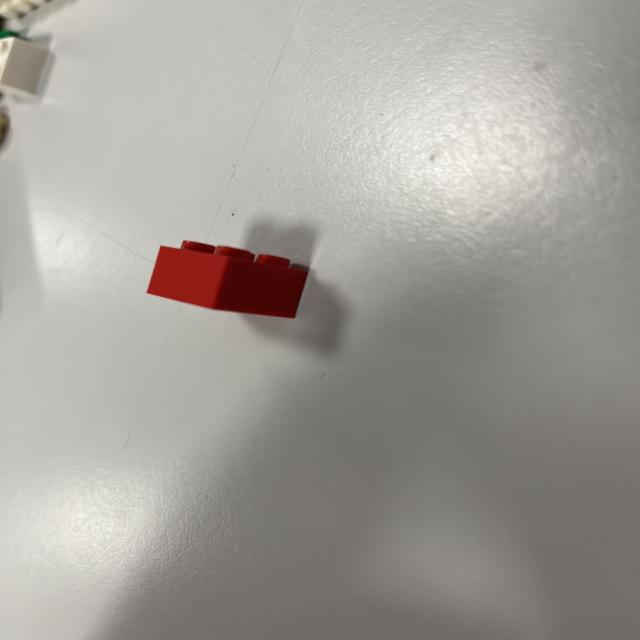C2x2x1: (142, 238, 310, 322)
